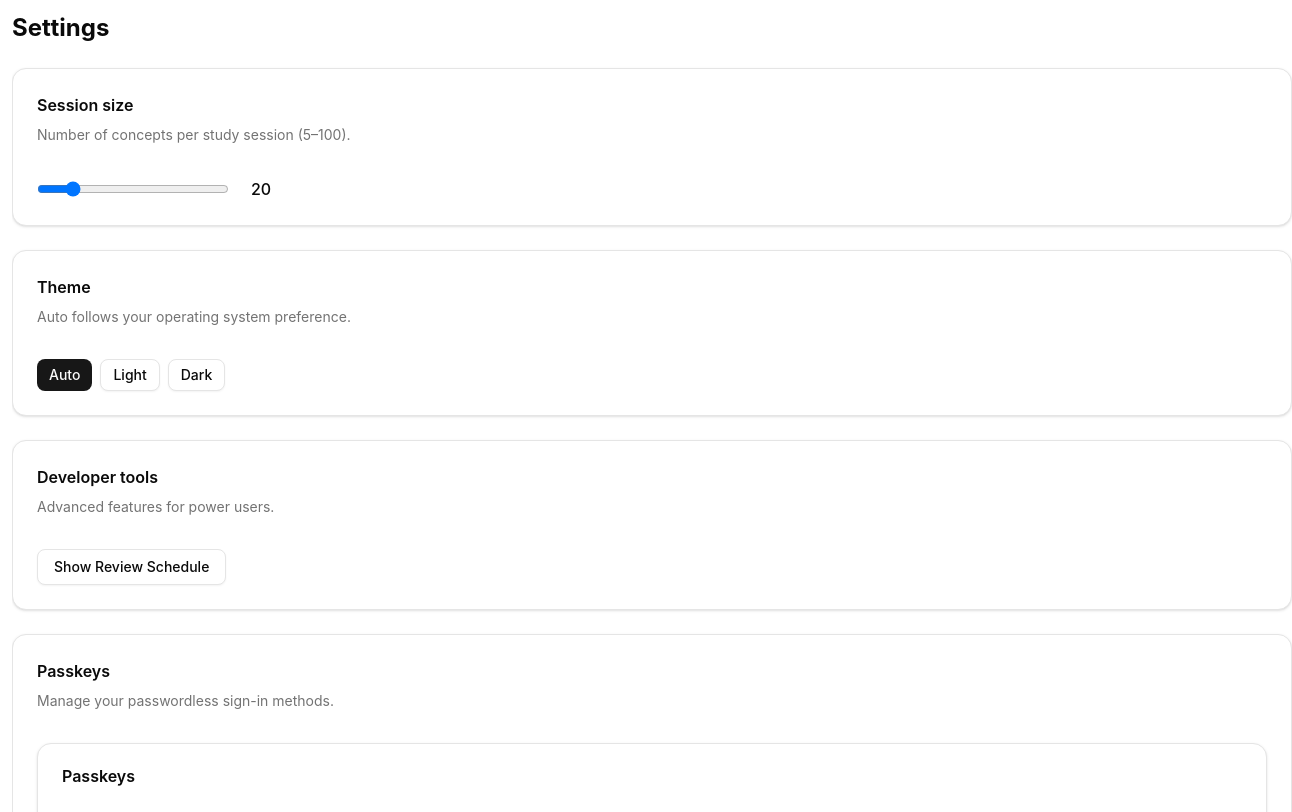
Scenario: SettingsPage › updates session size label when slider changes
Set the slider named "session size" to "50": (128, 189) [37,181,229,197]
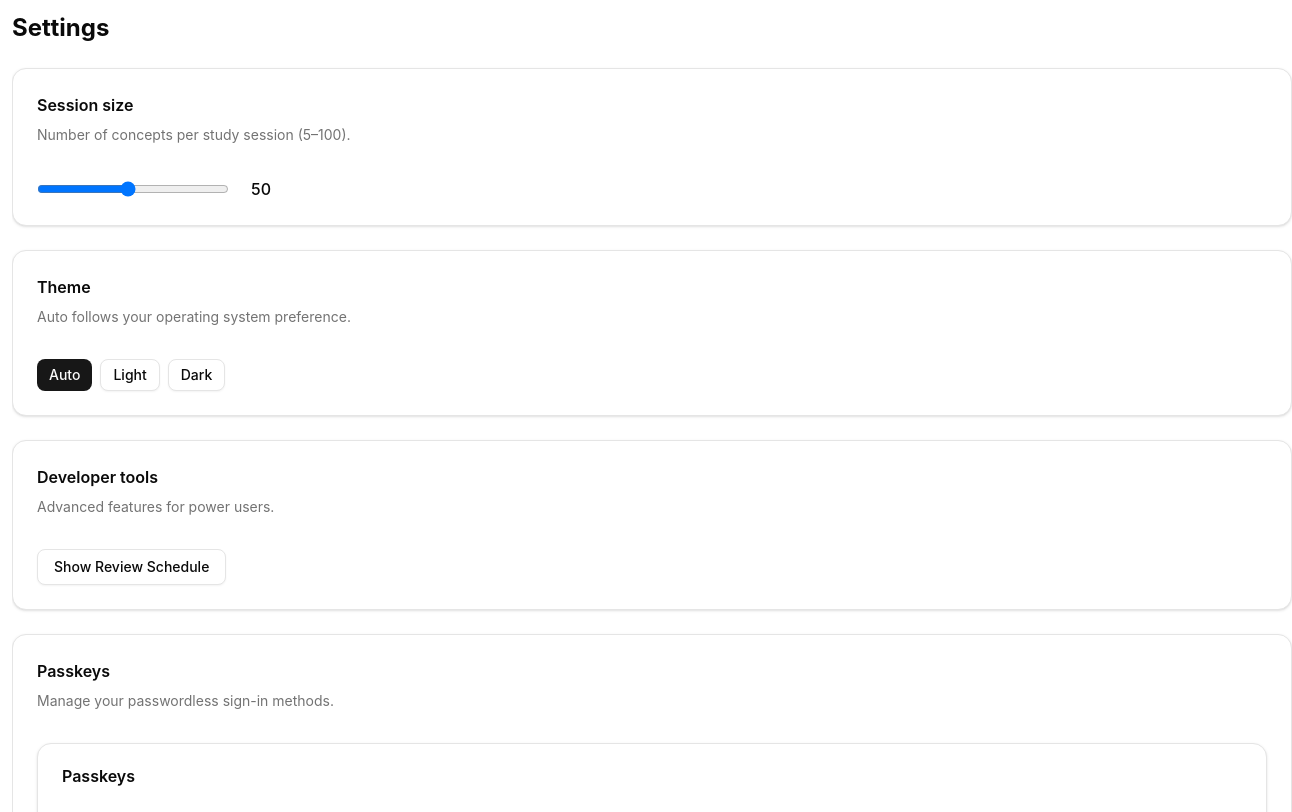
Now the text "50" is shown, box [251,179,271,199]
